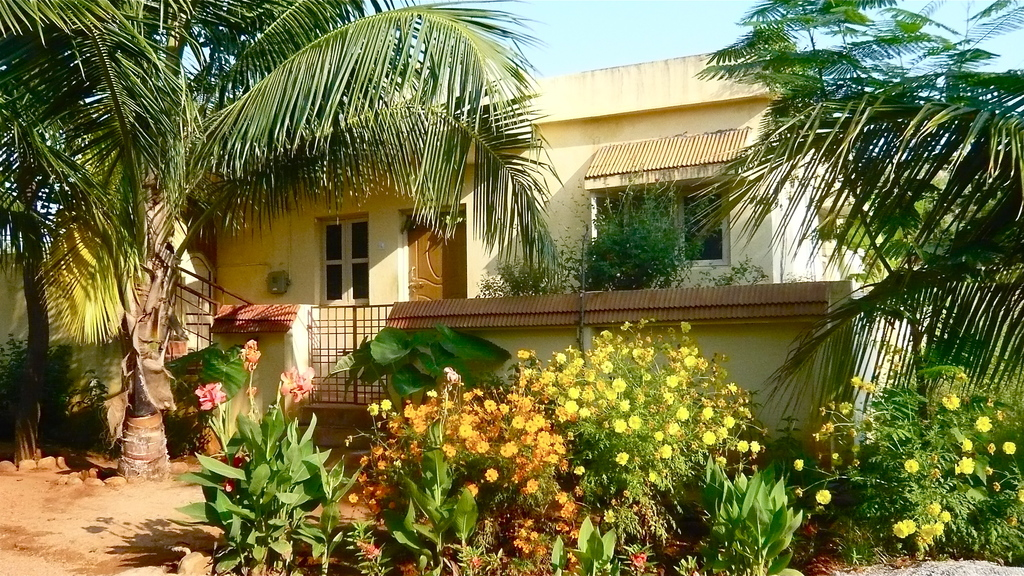Tree: (676, 0, 1024, 470)
